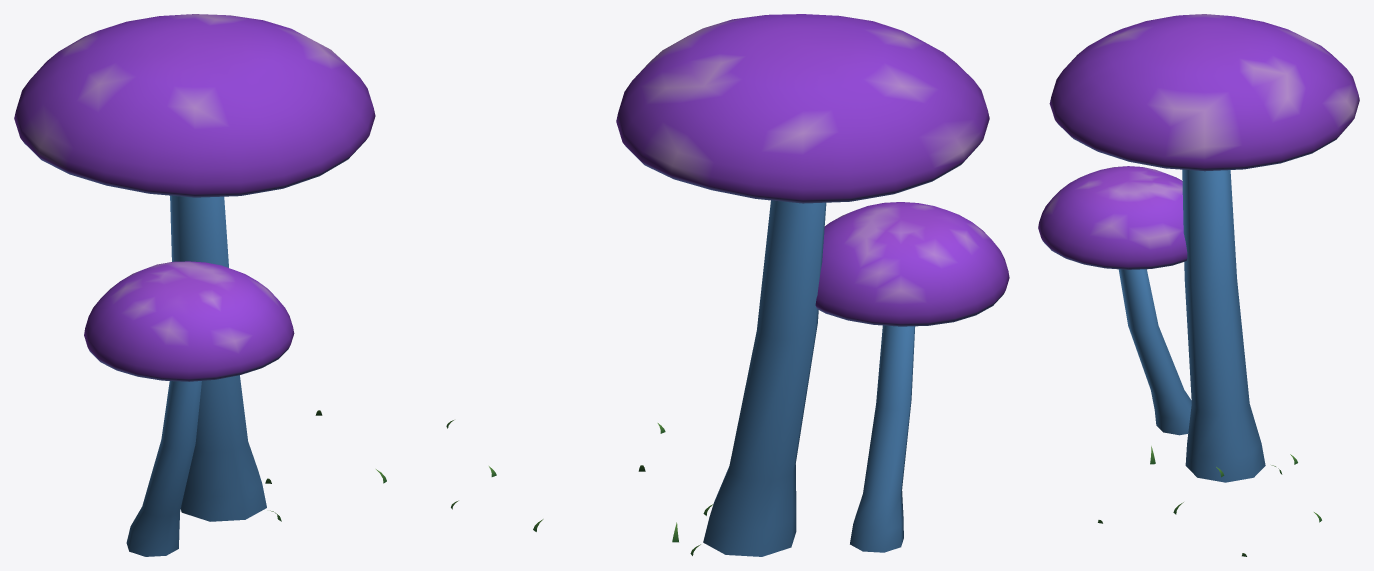
Rendered from mush_glow_violet.glb.
3 views of the same model, side by side, from view 1: azimuth 30°, elevation 25°; view 2: azimuth 150°, elevation 25°; view 3: azimuth 270°, elevation 25° (orthographic). The views are drawn at different scales.
Parts seen in each view (by area): view 1: mush_glow_violet; view 2: mush_glow_violet; view 3: mush_glow_violet.
Boxes of the visible parts, box(x1,y1,x2,y2) form: mush_glow_violet: box(14, 14, 458, 556); mush_glow_violet: box(489, 14, 1009, 556); mush_glow_violet: box(1038, 14, 1359, 556).
Bounding box in the file's own units: 1.47 × 1.53 × 1.09.
